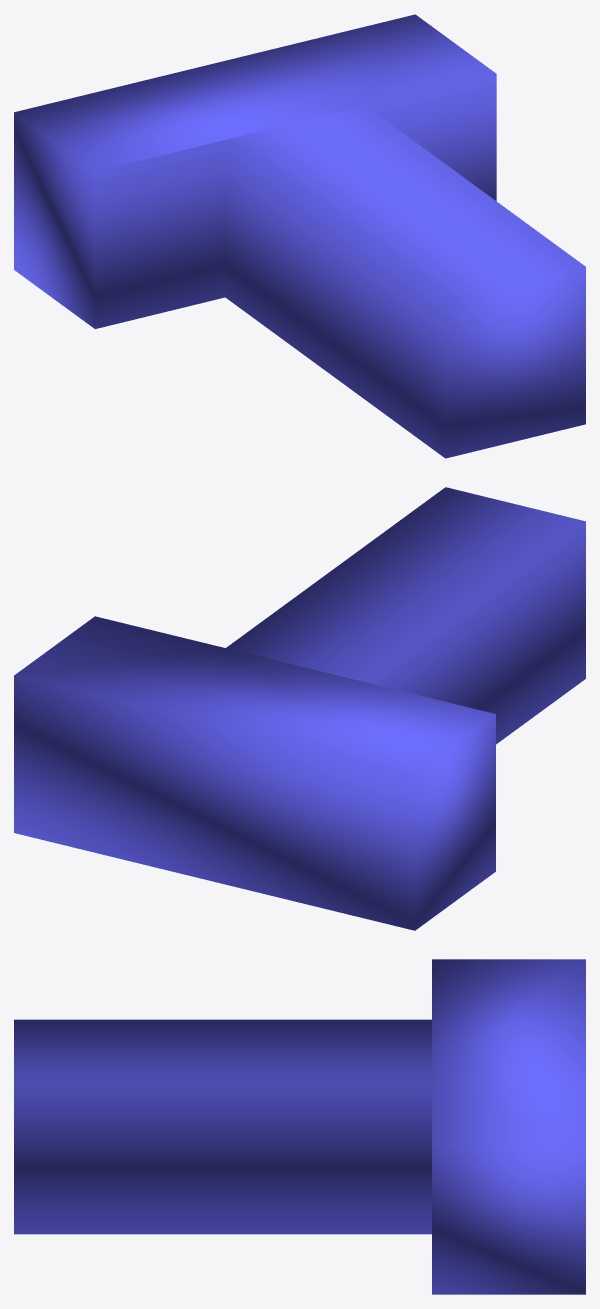
3 views of the same model, one above another, from view 1: azimuth 30°, elevation 25°; view 2: azimuth 150°, elevation 25°; view 3: azimuth 270°, elevation 25° (orthographic). The views are drawn at different scales.
Parts seen in each view (by area): view 1: T1; view 2: T1; view 3: T1.
Boxes of the visible parts, box(x1,y1,x2,y2) form: T1: box(14, 14, 585, 458); T1: box(14, 487, 585, 930); T1: box(14, 959, 585, 1294).
Size of the model in its own units: 15.75 by 5.91 by 20.47.
